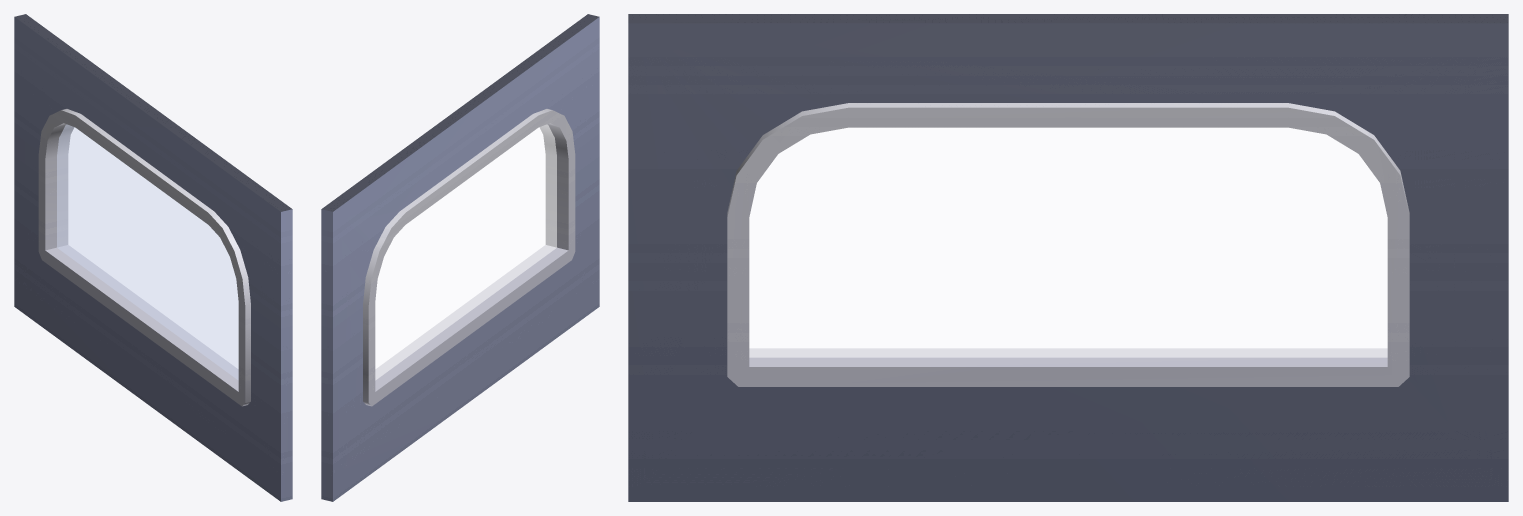
Rendered from wall-window-wide-round.glb.
The picture shows the model from 3 angles, left to right: view 1: azimuth 30°, elevation 25°; view 2: azimuth 150°, elevation 25°; view 3: azimuth 270°, elevation 25°; orthographic projection. The views are drawn at different scales.
Visible parts, largest first — view 1: wall-window-wide-round, (%ignore); view 2: wall-window-wide-round, (%ignore); view 3: wall-window-wide-round, (%ignore).
Part boxes in pixels (x1,y1,x2,y2): wall-window-wide-round: (14, 14, 292, 501); (%ignore): (57, 124, 238, 380); wall-window-wide-round: (321, 14, 599, 501); (%ignore): (375, 124, 556, 380); wall-window-wide-round: (628, 14, 1508, 501); (%ignore): (749, 127, 1387, 357).
Size of the model in its own units: 0.2 by 2.4 by 4.
2 materials, 1 textured.
